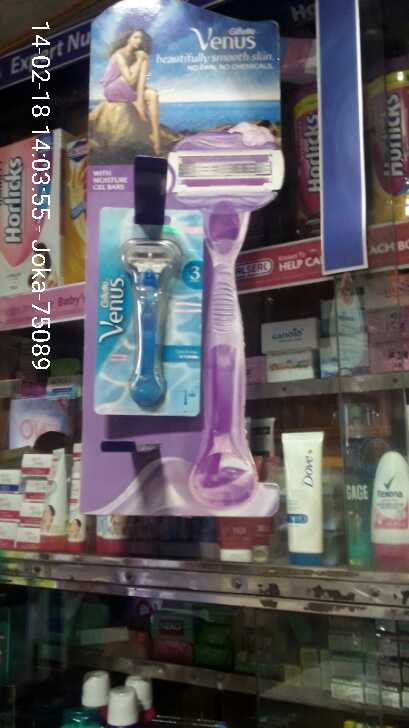venus: (98, 207, 209, 417)
